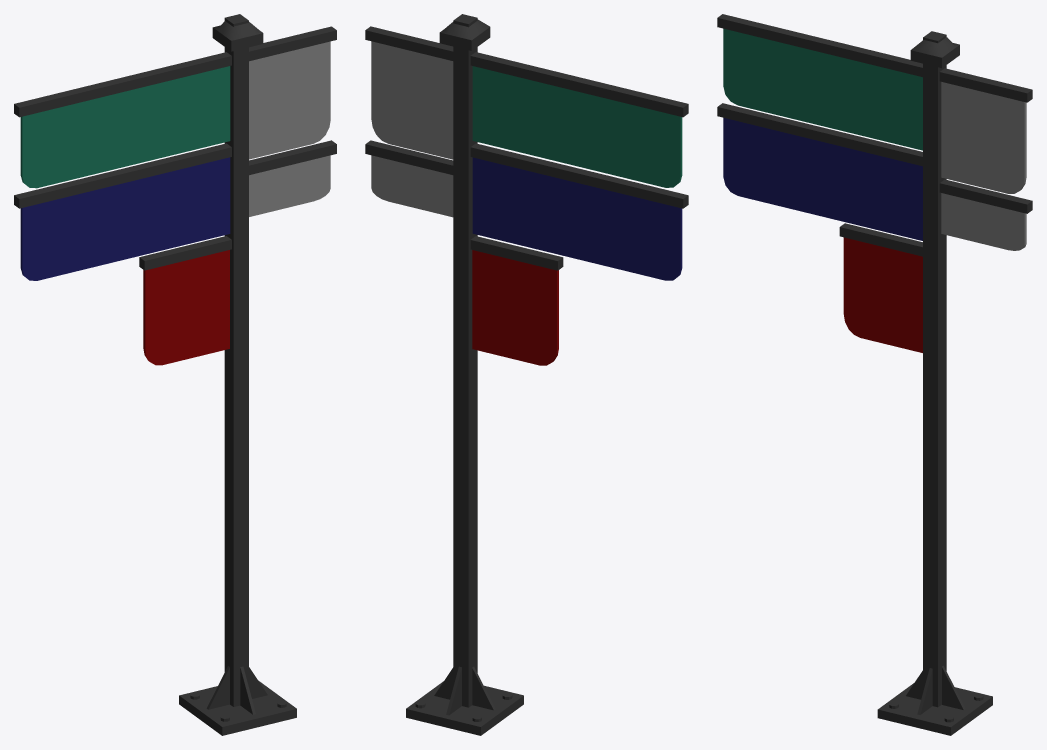
File: SEÑALICACION.fbx
The picture shows the model from 3 angles, left to right: view 1: azimuth 30°, elevation 25°; view 2: azimuth 150°, elevation 25°; view 3: azimuth 330°, elevation 25°; orthographic projection. The views are drawn at different scales.
Parts seen in each view (by area): view 1: polySurface192; view 2: polySurface192; view 3: polySurface192.
Part boxes in pixels (x1,y1,x2,y2): polySurface192: (14,14,336,735); polySurface192: (365,14,688,735); polySurface192: (717,14,1032,735).
Bounding box in the file's own units: 4.24 × 8.83 × 1.
